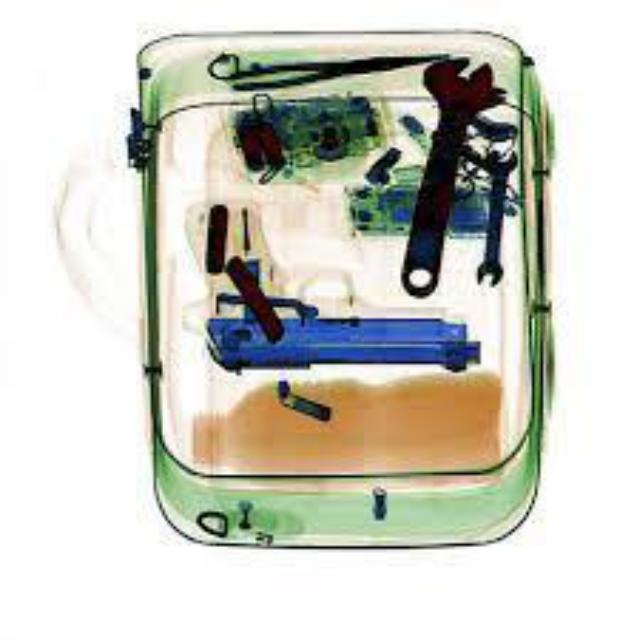Gun: (199, 254, 478, 366)
Wrench: (395, 42, 496, 296), (468, 142, 514, 284)
